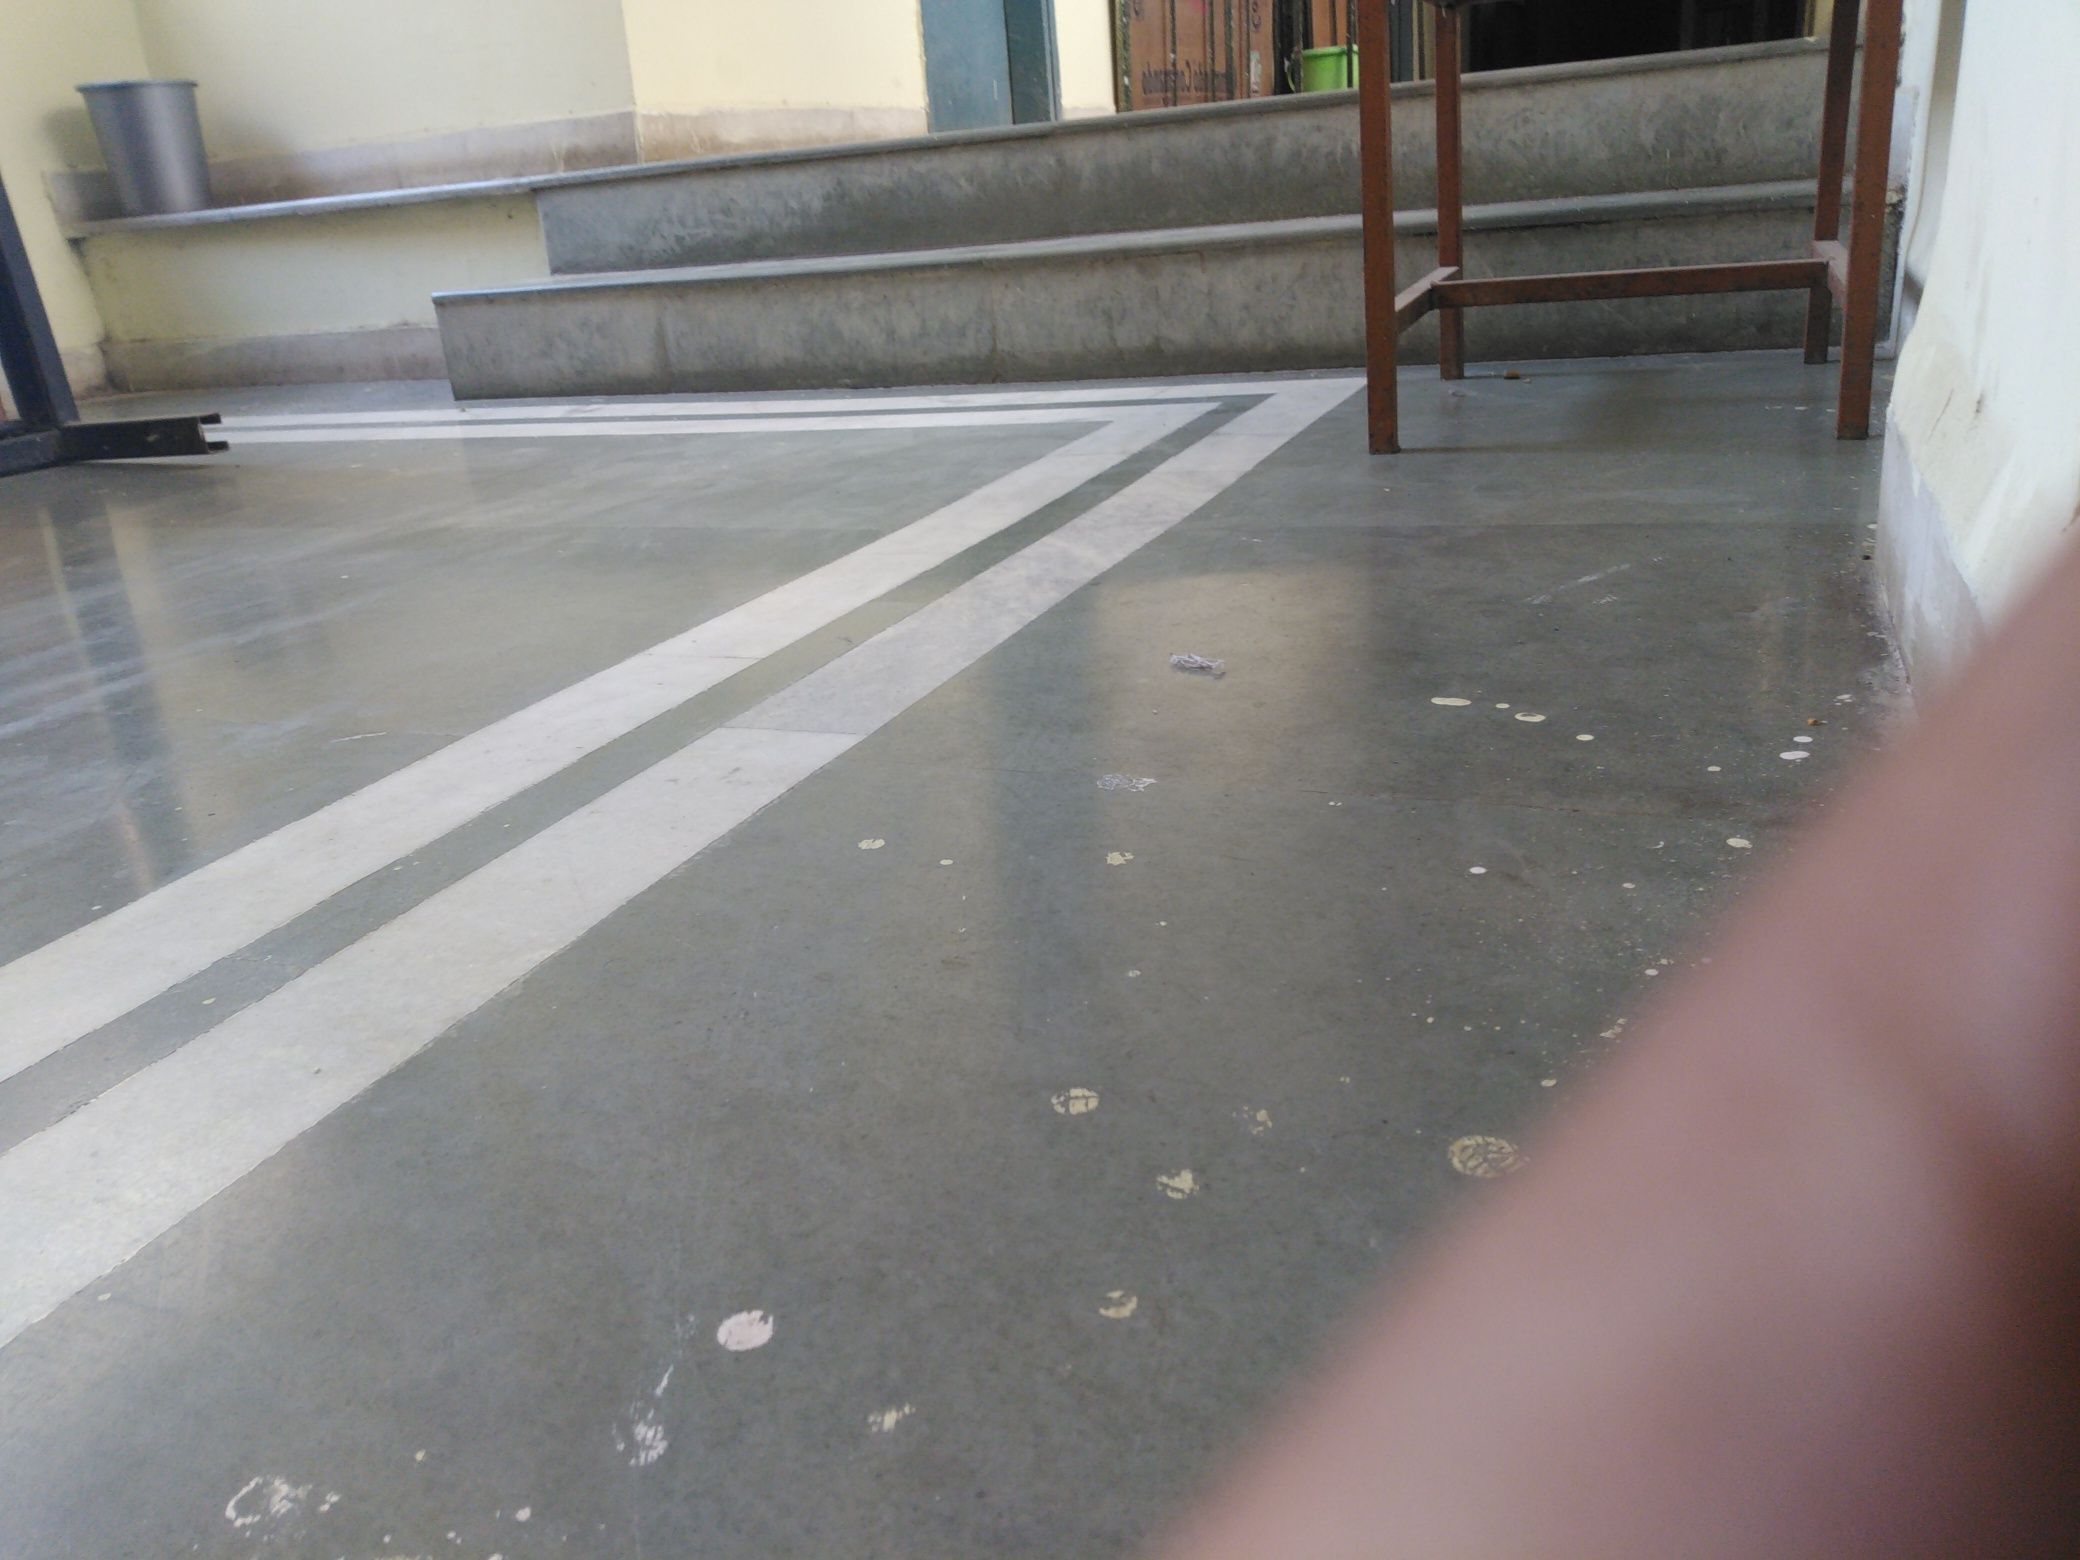stairs_up: (441, 85, 1341, 434)
